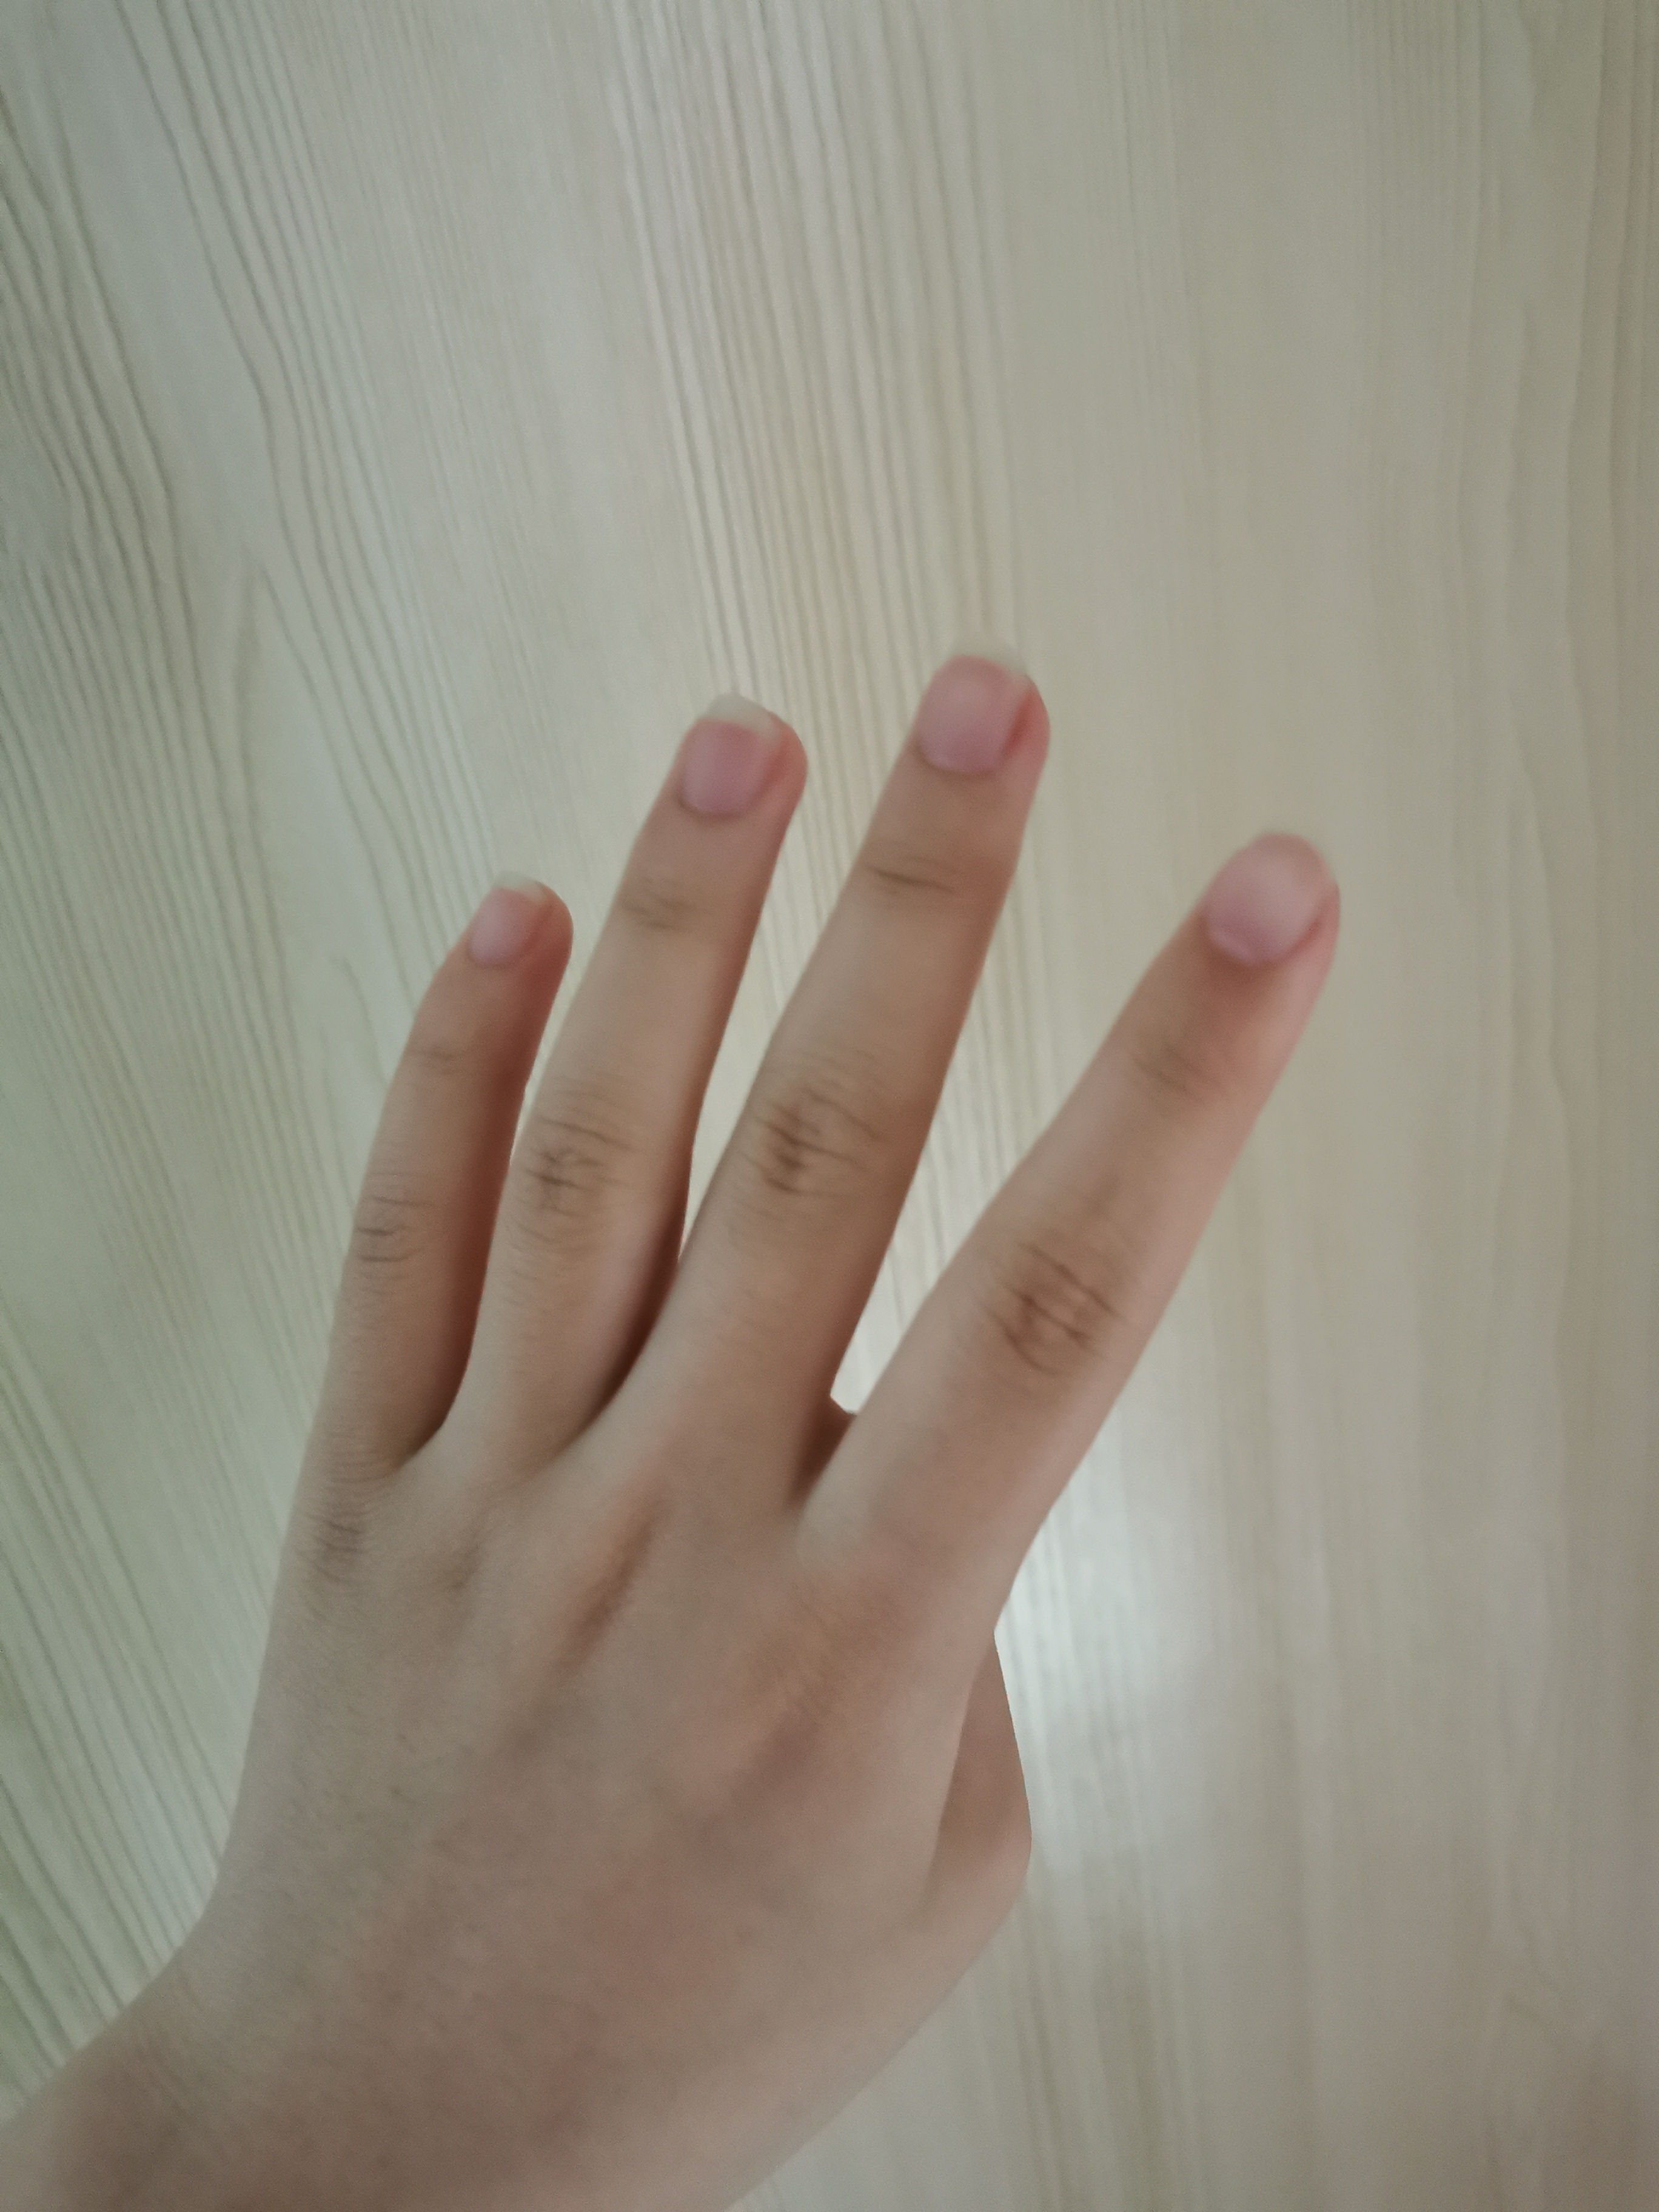right: (166, 620, 1384, 2134)
